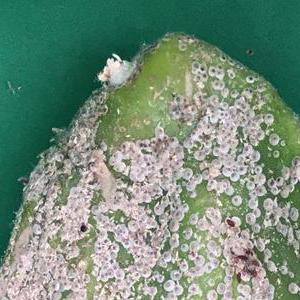Femea: (268, 156, 299, 197), (143, 154, 178, 190), (112, 220, 144, 252), (143, 124, 177, 153), (214, 118, 234, 167), (90, 255, 123, 282), (206, 179, 243, 203), (238, 145, 264, 173), (229, 97, 253, 125), (245, 172, 264, 207), (206, 91, 230, 117), (178, 164, 202, 190), (133, 248, 154, 277), (181, 215, 206, 237), (253, 108, 278, 128), (241, 126, 265, 145), (205, 278, 226, 299), (168, 201, 189, 222), (183, 141, 202, 163), (171, 92, 186, 119), (93, 232, 111, 254), (202, 130, 213, 165), (186, 92, 203, 114), (120, 141, 142, 158), (202, 206, 223, 223), (166, 220, 179, 247), (205, 239, 221, 259), (151, 196, 167, 216), (181, 241, 197, 259), (209, 60, 225, 77), (193, 116, 213, 129), (222, 168, 242, 181), (189, 60, 207, 74), (204, 165, 219, 180), (286, 281, 299, 296), (185, 126, 201, 138), (204, 260, 220, 272), (242, 213, 254, 228), (268, 132, 279, 145), (169, 269, 180, 281), (163, 278, 173, 291), (244, 74, 256, 83), (171, 285, 182, 294), (252, 209, 260, 217)
